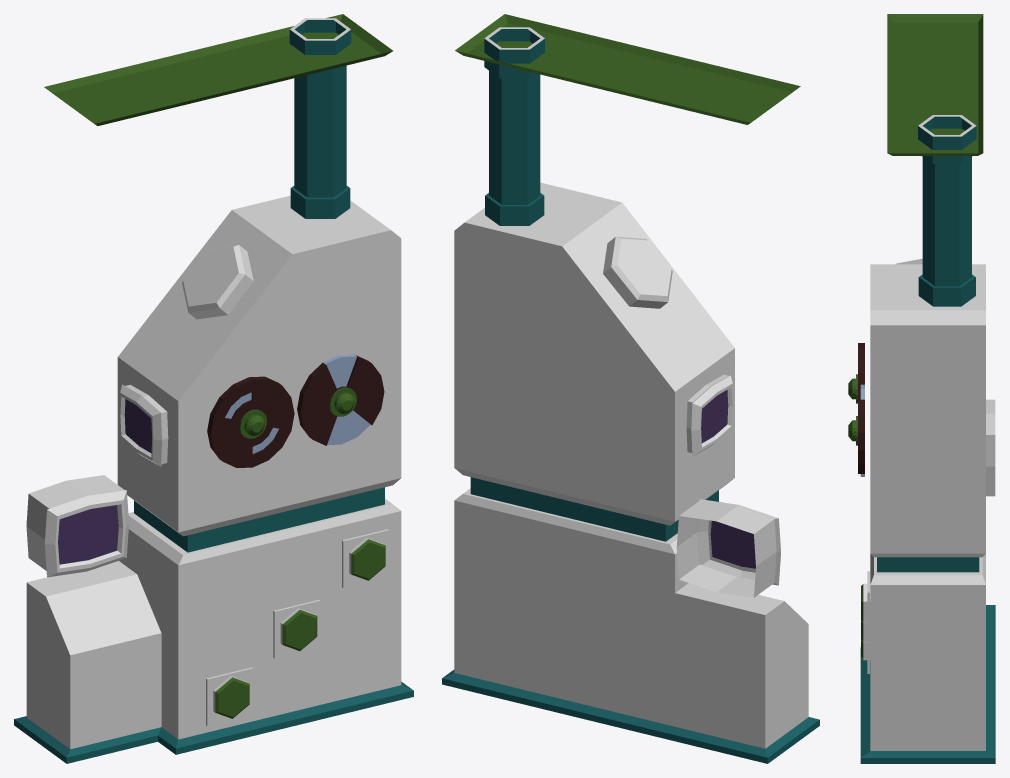
File: tomb_recorder.fbx
3 views of the same model, side by side, from view 1: azimuth 30°, elevation 25°; view 2: azimuth 150°, elevation 25°; view 3: azimuth 270°, elevation 25° (orthographic). The views are drawn at different scales.
Parts seen in each view (by area): view 1: wire_panel1.003 T5; view 2: wire_panel1.003 T5; view 3: wire_panel1.003 T5.
Boxes of the visible parts, x1=… form: wire_panel1.003 T5: x1=14, y1=14, x2=413, y2=763; wire_panel1.003 T5: x1=442, y1=14, x2=819, y2=763; wire_panel1.003 T5: x1=848, y1=14, x2=995, y2=763.
Bounding box in the file's own units: 295 × 554 × 120.
